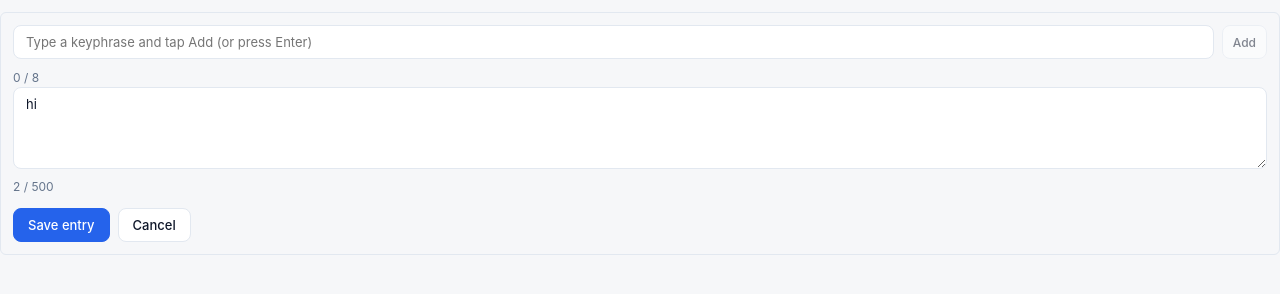
JournalEntryForm keyphrase error feedback (H4) › clears the error when the user types again
Type "a, b" into the field with test id "keyphrase-input".
click(613, 42); type("a, b")  # box [13,25,1214,59]
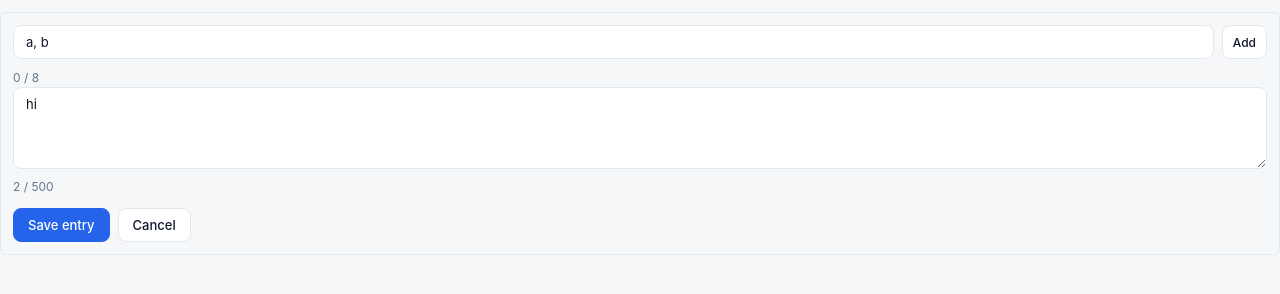
Click the button with test id "keyphrase-add".
click(1244, 42)  # box [1222,25,1267,59]
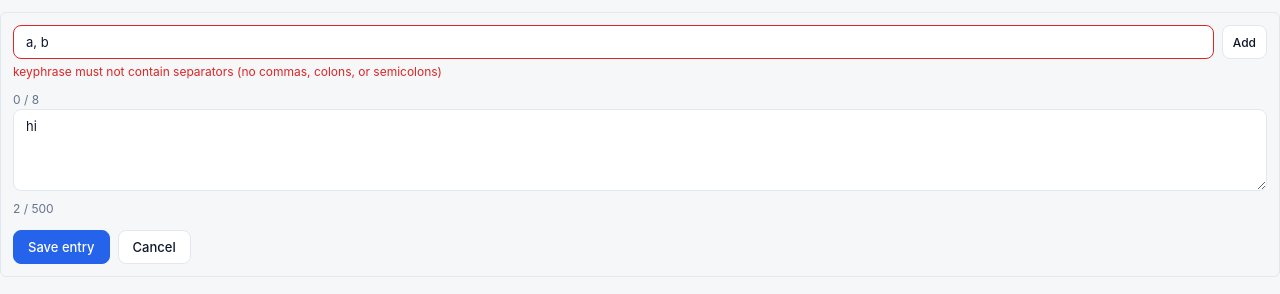
expect the message "keyphrase must not contain separators (no commas, colons, or semicolons)" is shown: met, box [13,64,442,79]
Replace the text in the field with test id "keyphrase-input" with "good" at (613, 42), box [13,25,1214,59]
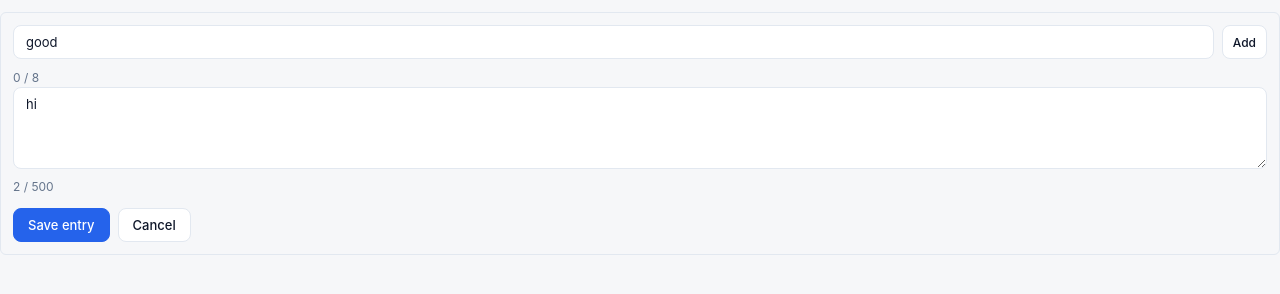
expect the message with test id "keyphrase-error" is gone: met
